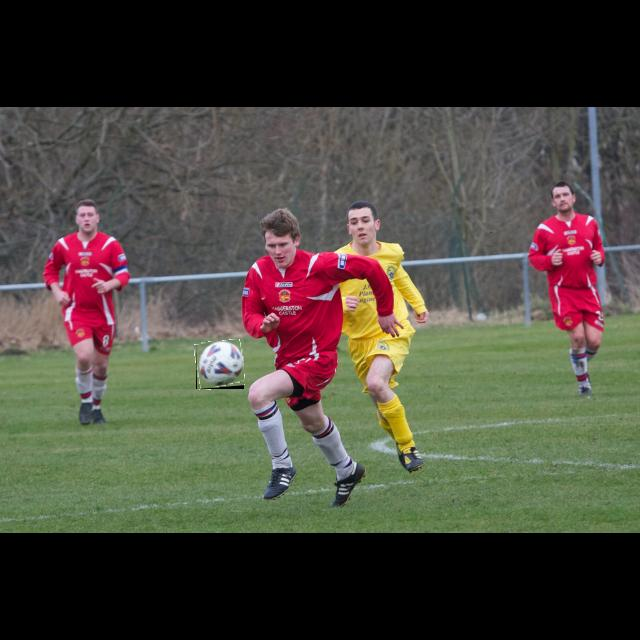Football: (196, 341, 244, 389)
